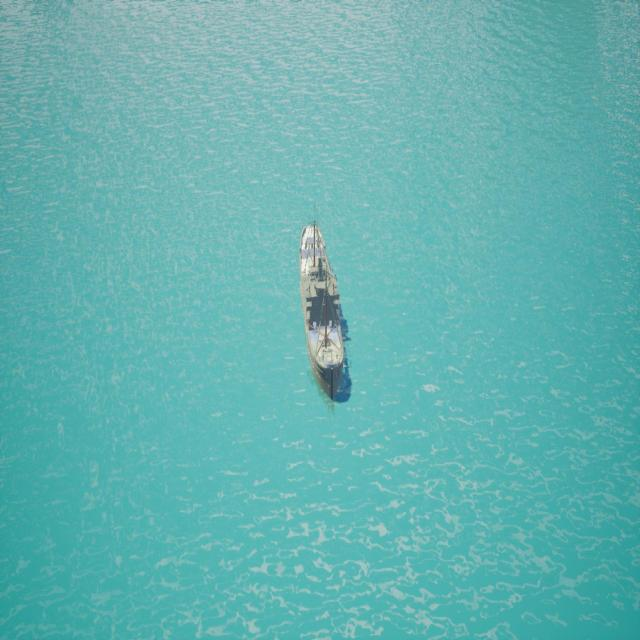fishing ship: (299, 221, 351, 409)
